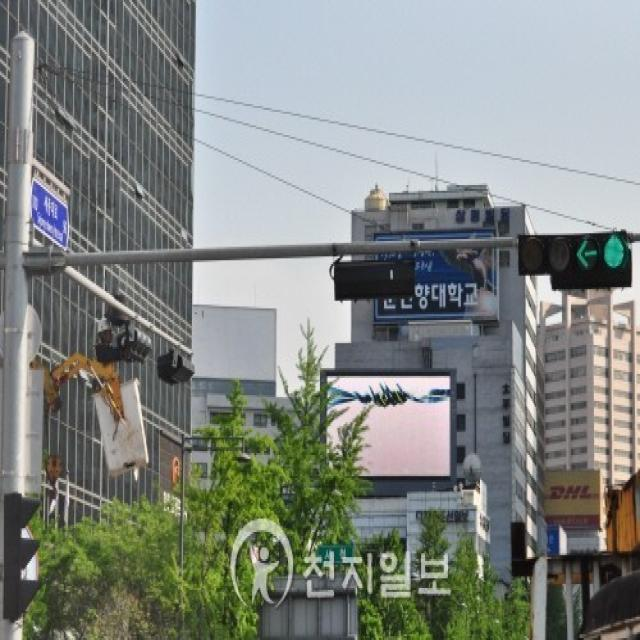Green Light: (599, 225, 629, 278)
